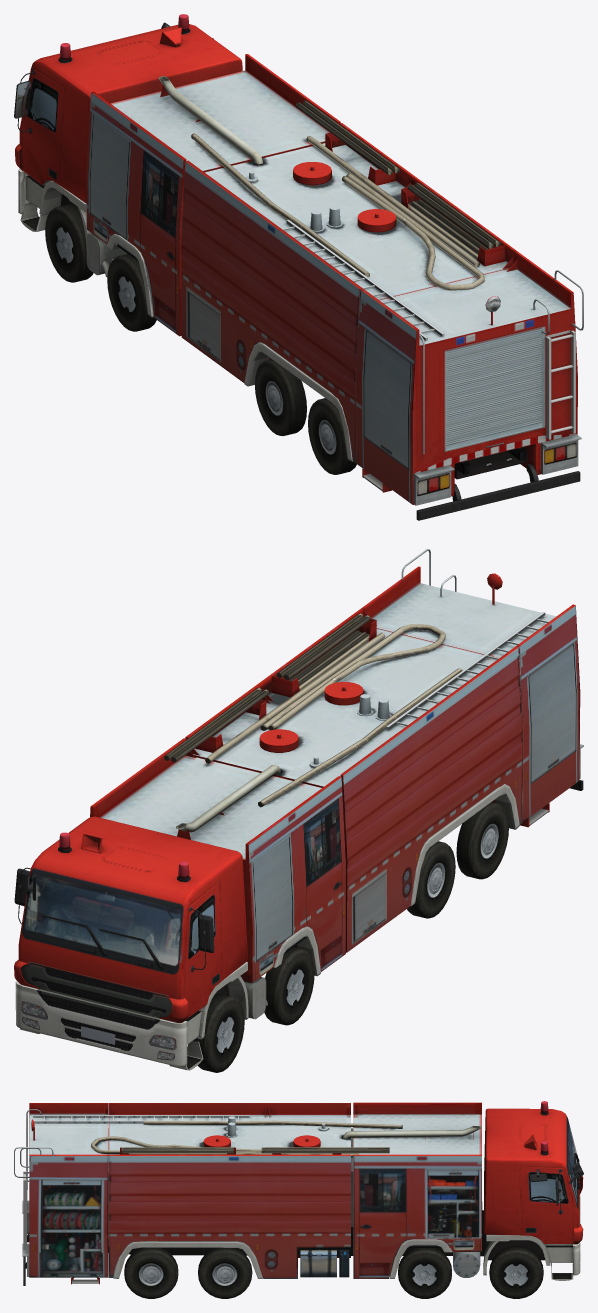
File: Unity2GLTF.gltf
The picture shows the model from 3 angles, top to bottom: view 1: azimuth 30°, elevation 25°; view 2: azimuth 150°, elevation 25°; view 3: azimuth 270°, elevation 25°; orthographic projection. The views are drawn at different scales.
Visible parts, largest first — view 1: node_CombinePlacement_-46436; view 2: node_CombinePlacement_-46436; view 3: node_CombinePlacement_-46436.
Boxes of the visible parts, box(x1,y1,x2,y2) form: node_CombinePlacement_-46436: box(14, 14, 583, 520); node_CombinePlacement_-46436: box(14, 549, 583, 1072); node_CombinePlacement_-46436: box(14, 1101, 583, 1298).
Bounding box in the file's own units: 2.6 × 2.73 × 9.25.
3 materials, 3 textured.
